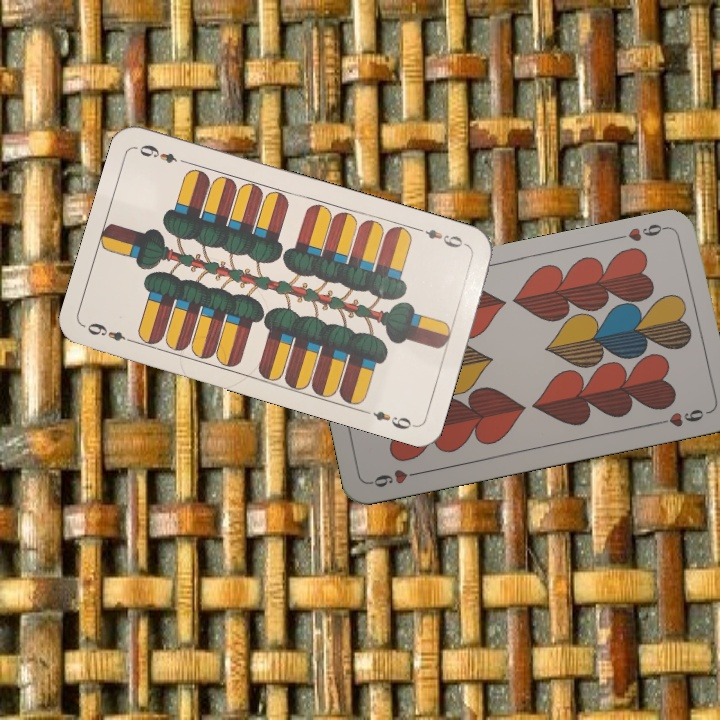E9: (413, 224, 471, 251), (83, 319, 139, 346)
H9: (612, 219, 671, 244), (367, 465, 425, 490)
